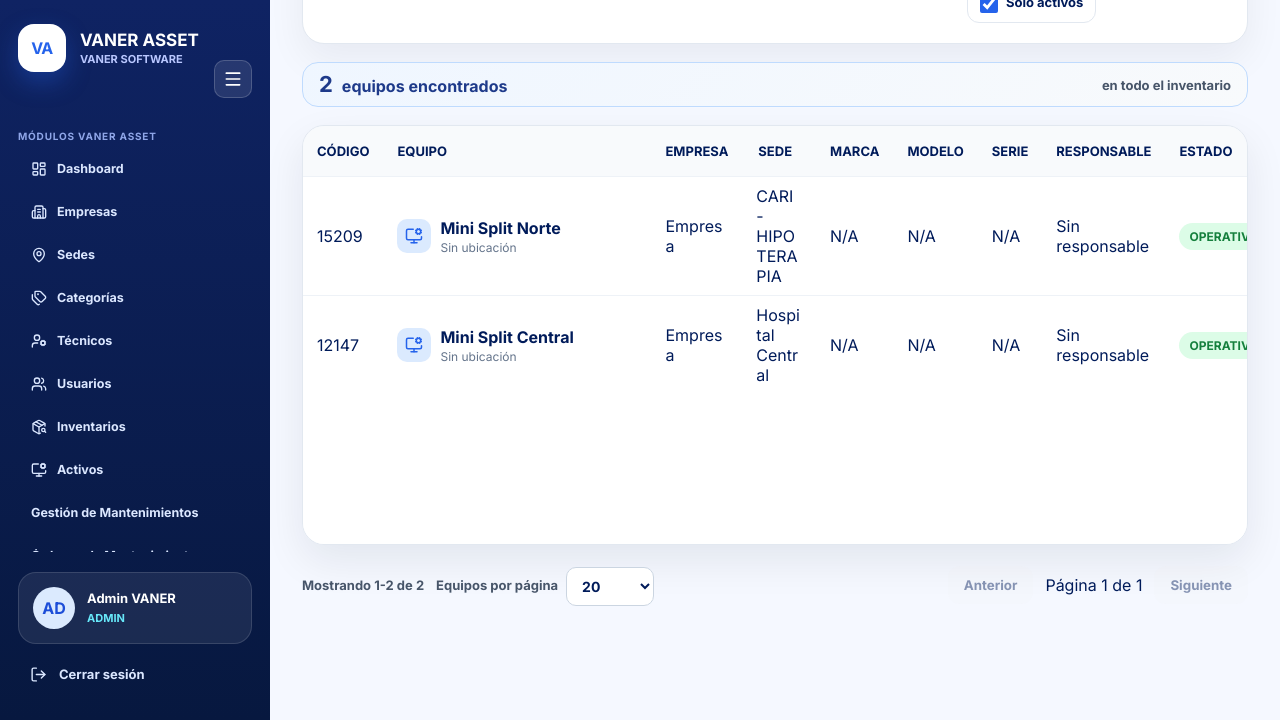
Test: EquiposPage › busca y filtra equipos por sede desde la barra y la cabecera
(page scrolled)
Expected: the text "Mini Split Norte" is shown, [440, 218, 561, 238]
Expected: the text "Mini Split Central" is shown, [440, 326, 574, 346]
Select "50" in the dropdown labelled "Equipos por página" at (610, 586), box [566, 567, 654, 606]
(page scrolled)
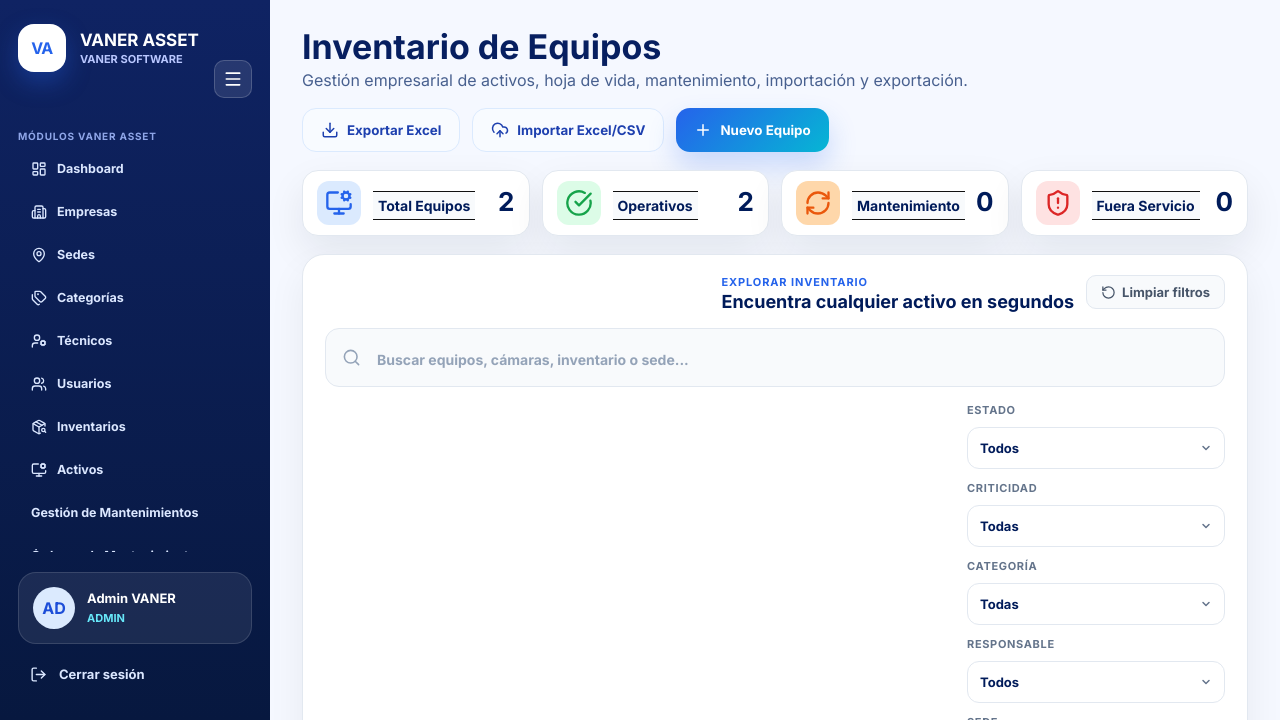
Type "hipoterapia" into the field with placeholder "Buscar equipos, cámaras, inventario o sede...".
click(790, 360); type("hipoterapia")  # box [371, 345, 1208, 374]
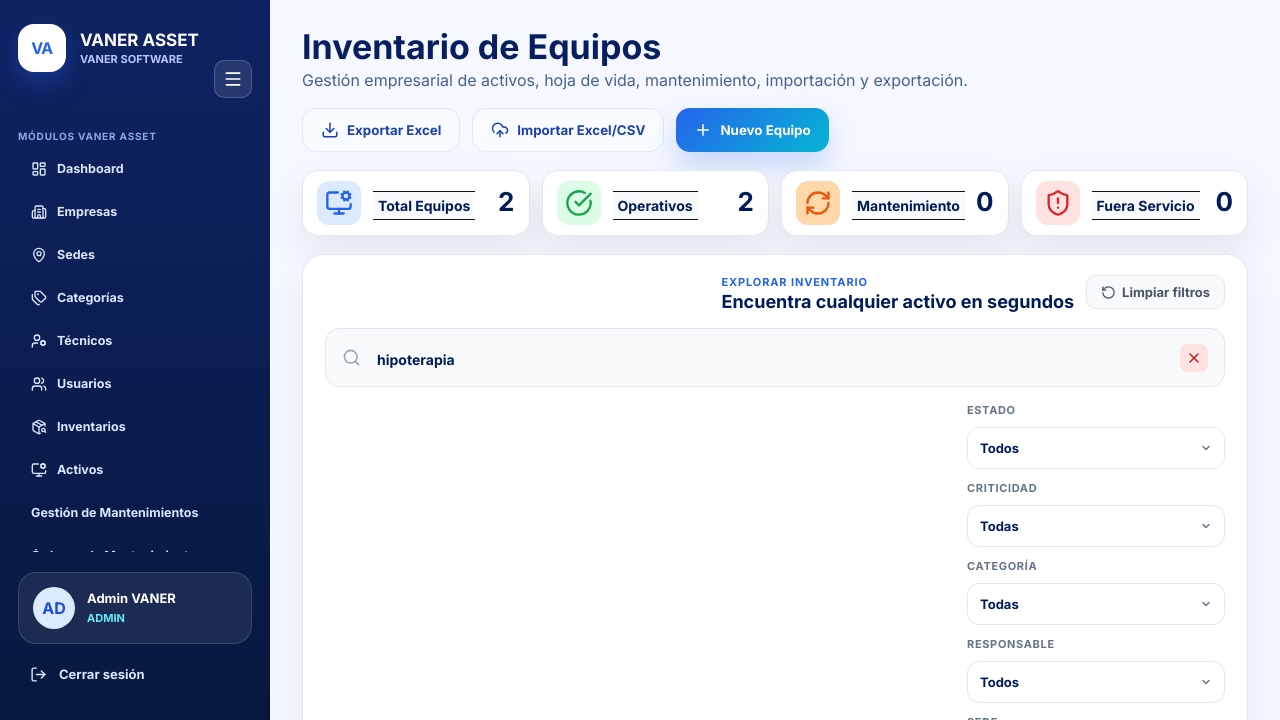
Expected: the text "Mini Split Central" is not shown
Clear the field with placeholder "Buscar equipos, cámaras, inventario o sede..." at (770, 360), box [371, 345, 1170, 374]
(page scrolled)
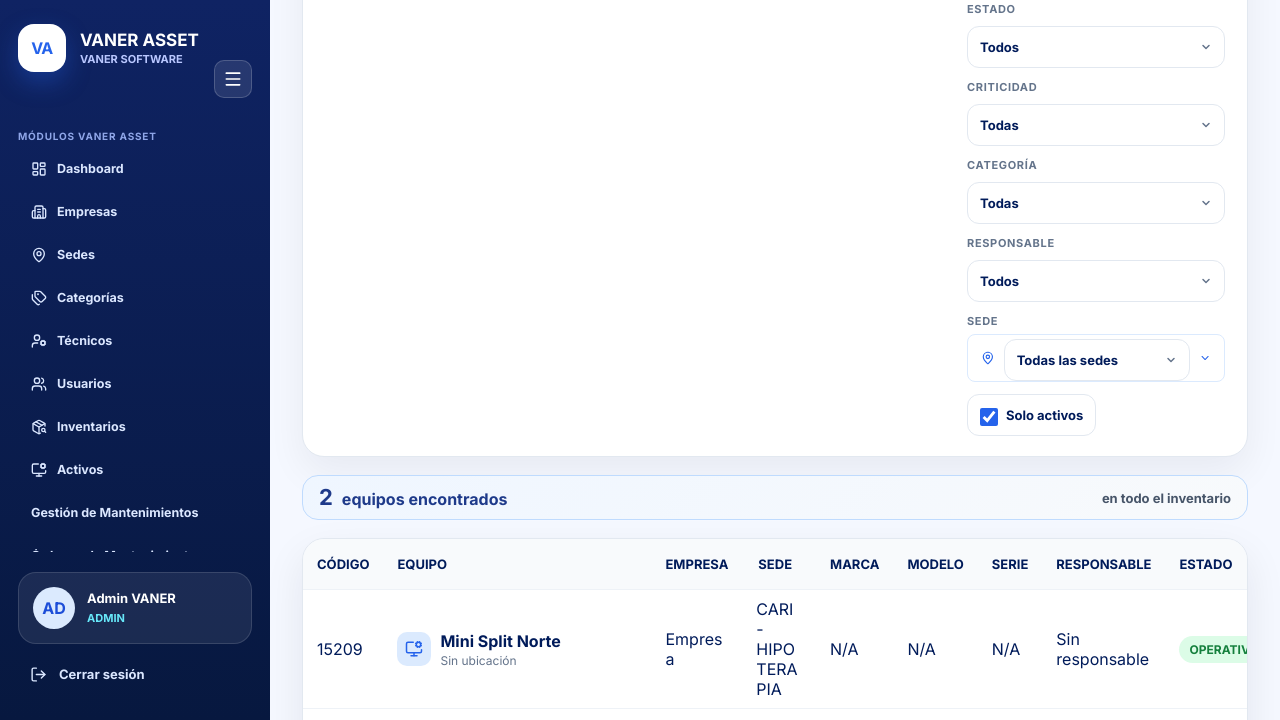
Select "Hospital Central" in the dropdown named "Filtrar por sede" at (1097, 360), box [1004, 339, 1190, 381]
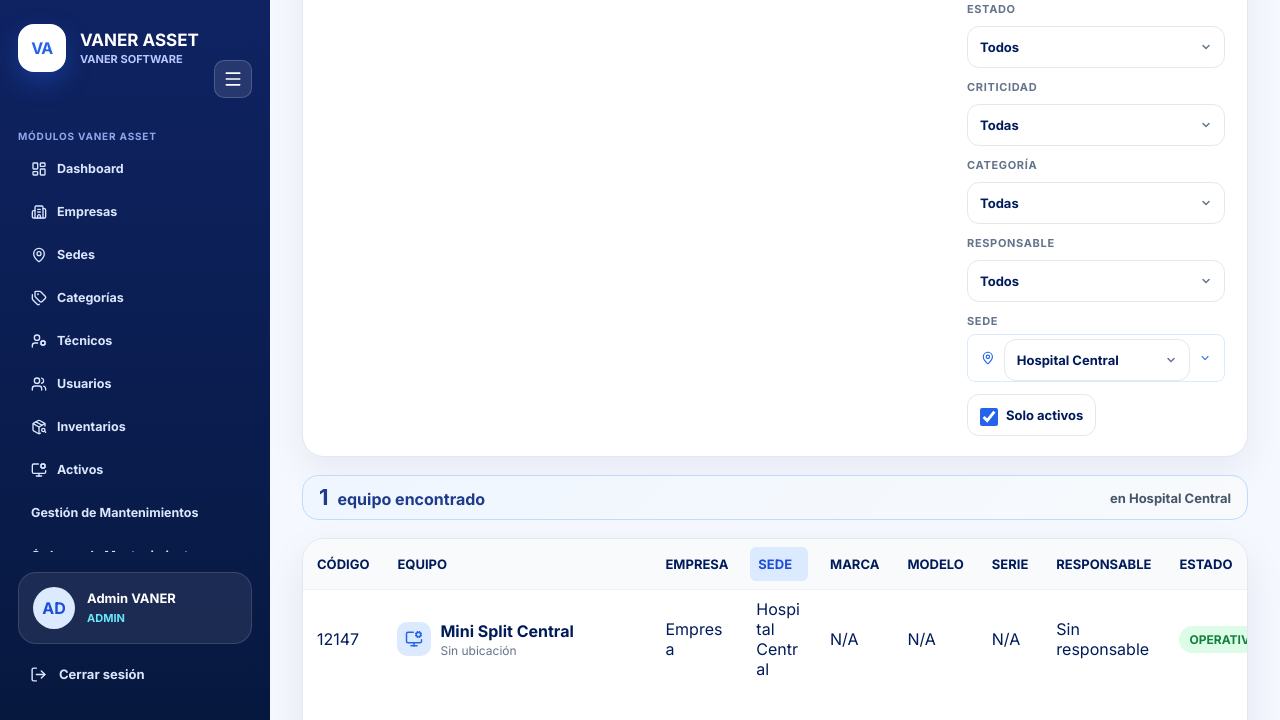
Expected: the text "Mini Split Norte" is gone
Expected: the text "Mini Split Central" is shown, [440, 620, 574, 640]
Expected: the text "1" is shown, [319, 486, 328, 508]
Click the button with aria-label "Abrir filtro de sedes".
click(779, 564)  # box [750, 547, 808, 581]
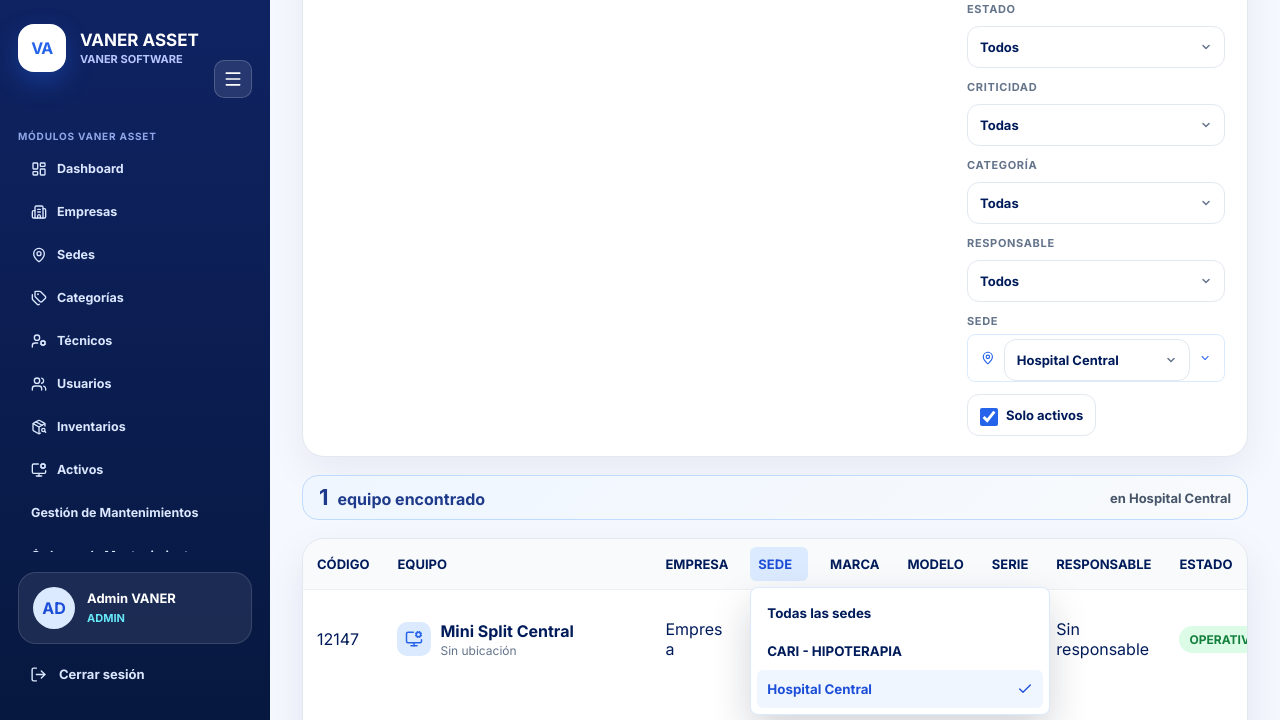
Expected: the menu named "Sedes disponibles" is shown, [750, 587, 1050, 715]
Click the menu item "CARI - HIPOTERAPIA".
click(900, 651)  # box [757, 632, 1043, 670]
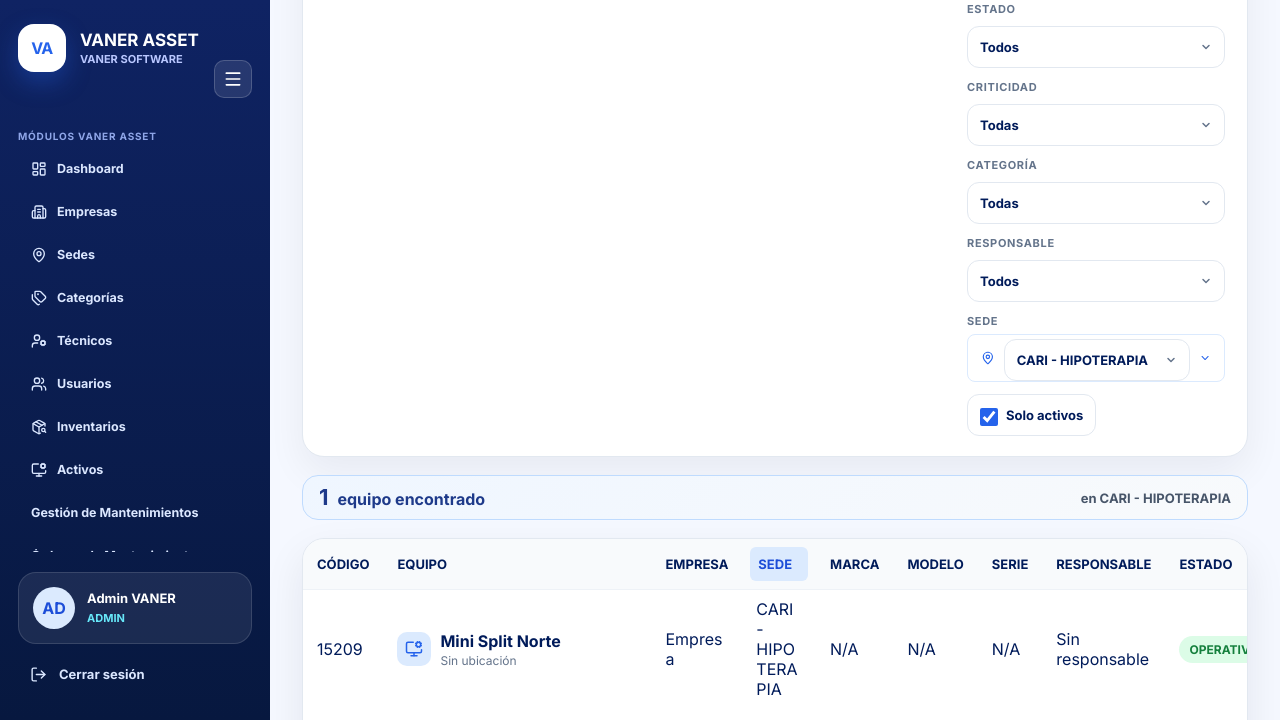
Expected: the text "Mini Split Norte" is shown, [440, 630, 561, 650]
Expected: the text "Mini Split Central" is gone
